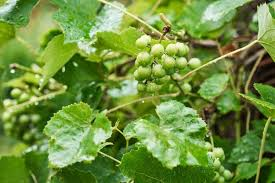grapes: (133, 28, 189, 94)
